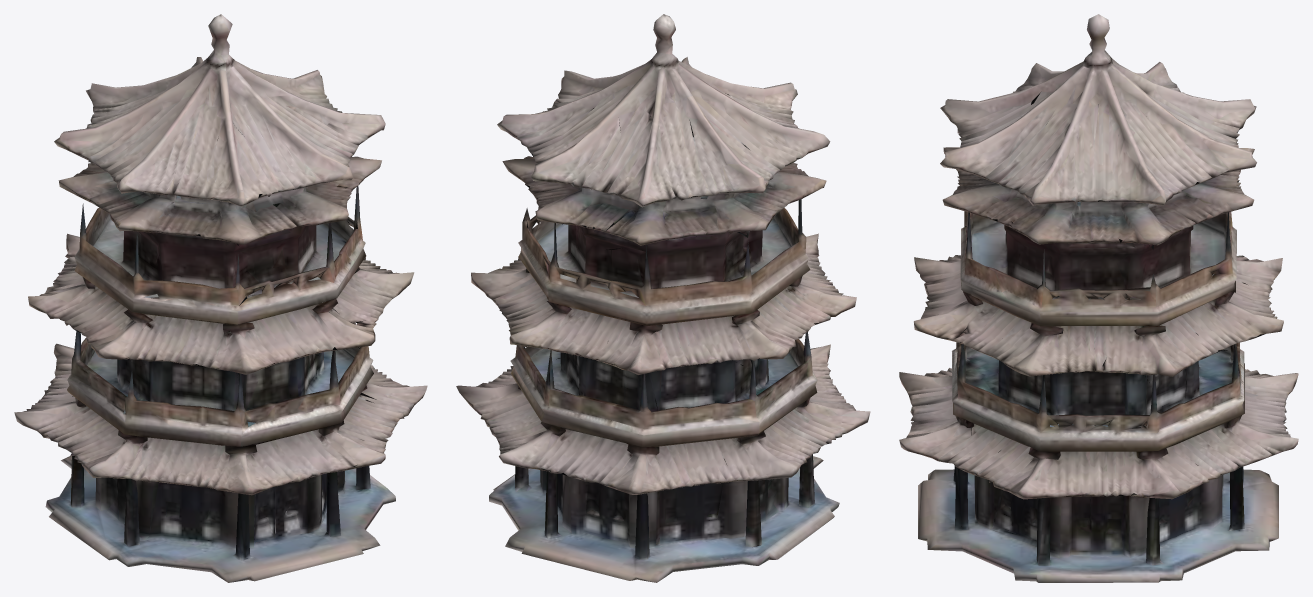
The model's file is lib_pagoda5.bk.glb.
The picture shows the model from 3 angles, left to right: view 1: azimuth 30°, elevation 25°; view 2: azimuth 150°, elevation 25°; view 3: azimuth 270°, elevation 25°; orthographic projection.
Visible parts, largest first — view 1: lo; view 2: lo; view 3: lo.
Boxes of the visible parts, x1,y1,x2,y2 form: lo: (14,14,427,582); lo: (456,14,870,582); lo: (899,14,1298,582).
Size of the model in its own units: 1.31 by 1.81 by 1.31.
Materials: 1 (1 with a texture image).
